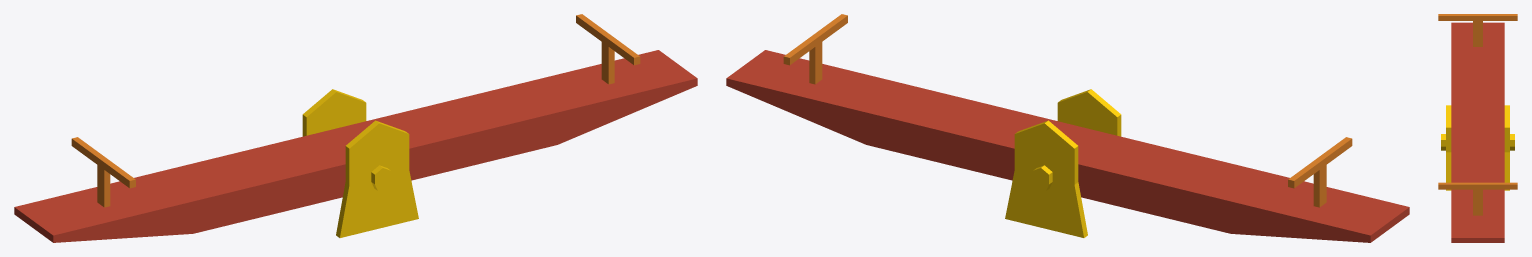
Rendered from Environment_Objects_Seesaw.fbx.
The picture shows the model from 3 angles, left to right: view 1: azimuth 30°, elevation 25°; view 2: azimuth 150°, elevation 25°; view 3: azimuth 270°, elevation 25°; orthographic projection. The views are drawn at different scales.
Visible parts, largest first — view 1: Environment_Objects_Seesaw; view 2: Environment_Objects_Seesaw; view 3: Environment_Objects_Seesaw.
Boxes of the visible parts, x1,y1,x2,y2 form: Environment_Objects_Seesaw: (14,14,697,242); Environment_Objects_Seesaw: (726,14,1409,242); Environment_Objects_Seesaw: (1438,14,1517,242).
Size of the model in its own units: 316 by 53.47 by 49.37.
